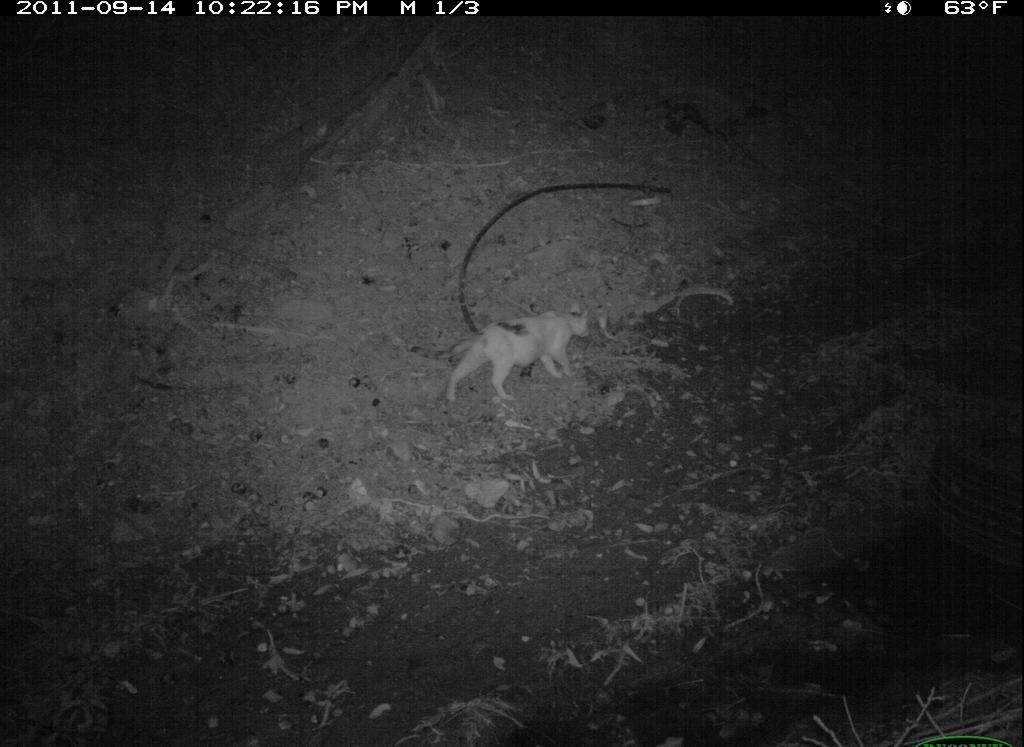cat: (436, 295, 598, 413)
